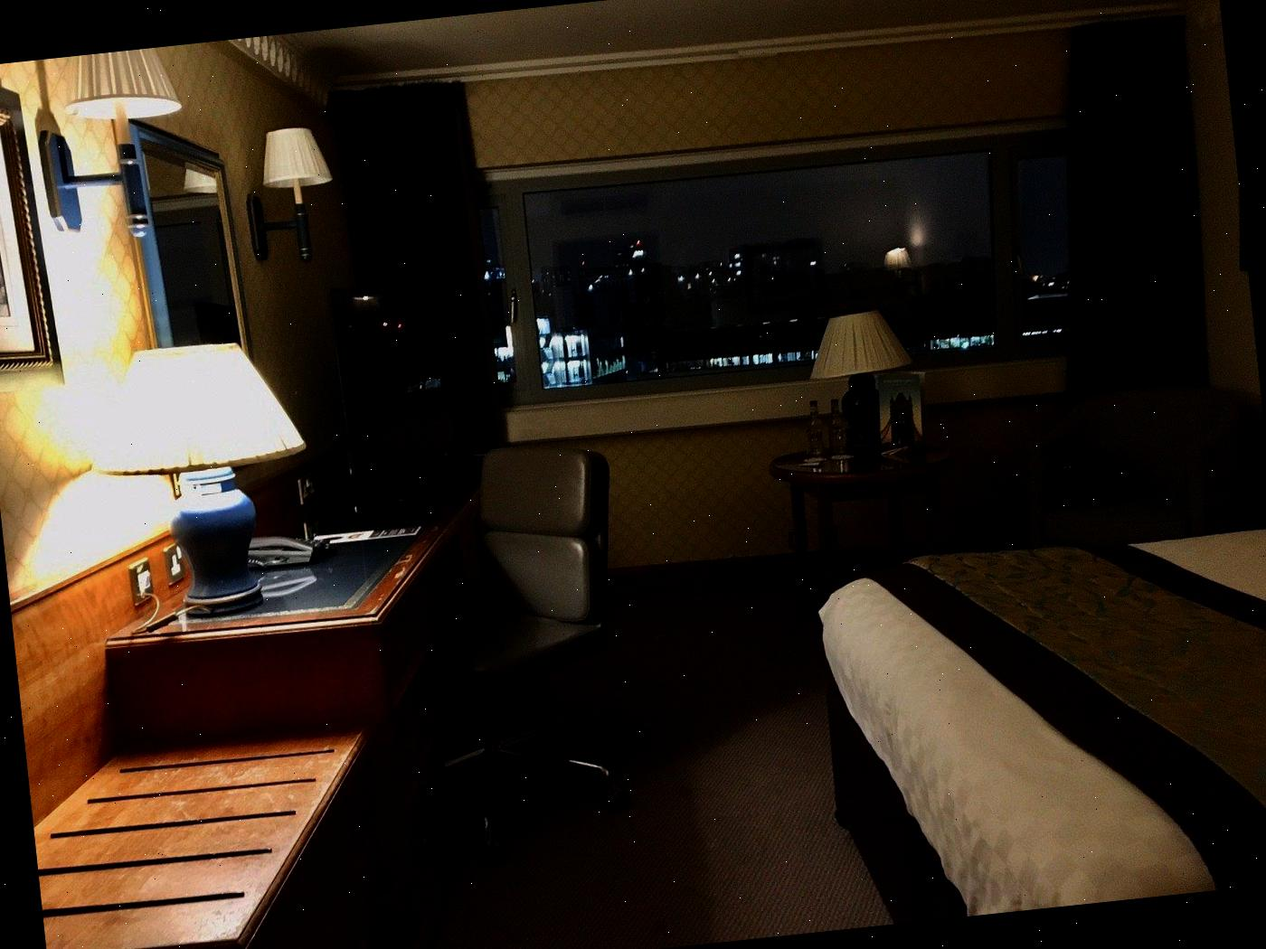chair: (435, 449, 623, 869), (1022, 392, 1231, 552)
clean_bed: (823, 523, 1266, 924)
clean_floor: (428, 572, 870, 949)
lamp: (94, 347, 323, 646), (44, 48, 181, 242), (808, 311, 923, 477), (230, 131, 343, 275)
organized table: (34, 476, 479, 949)
